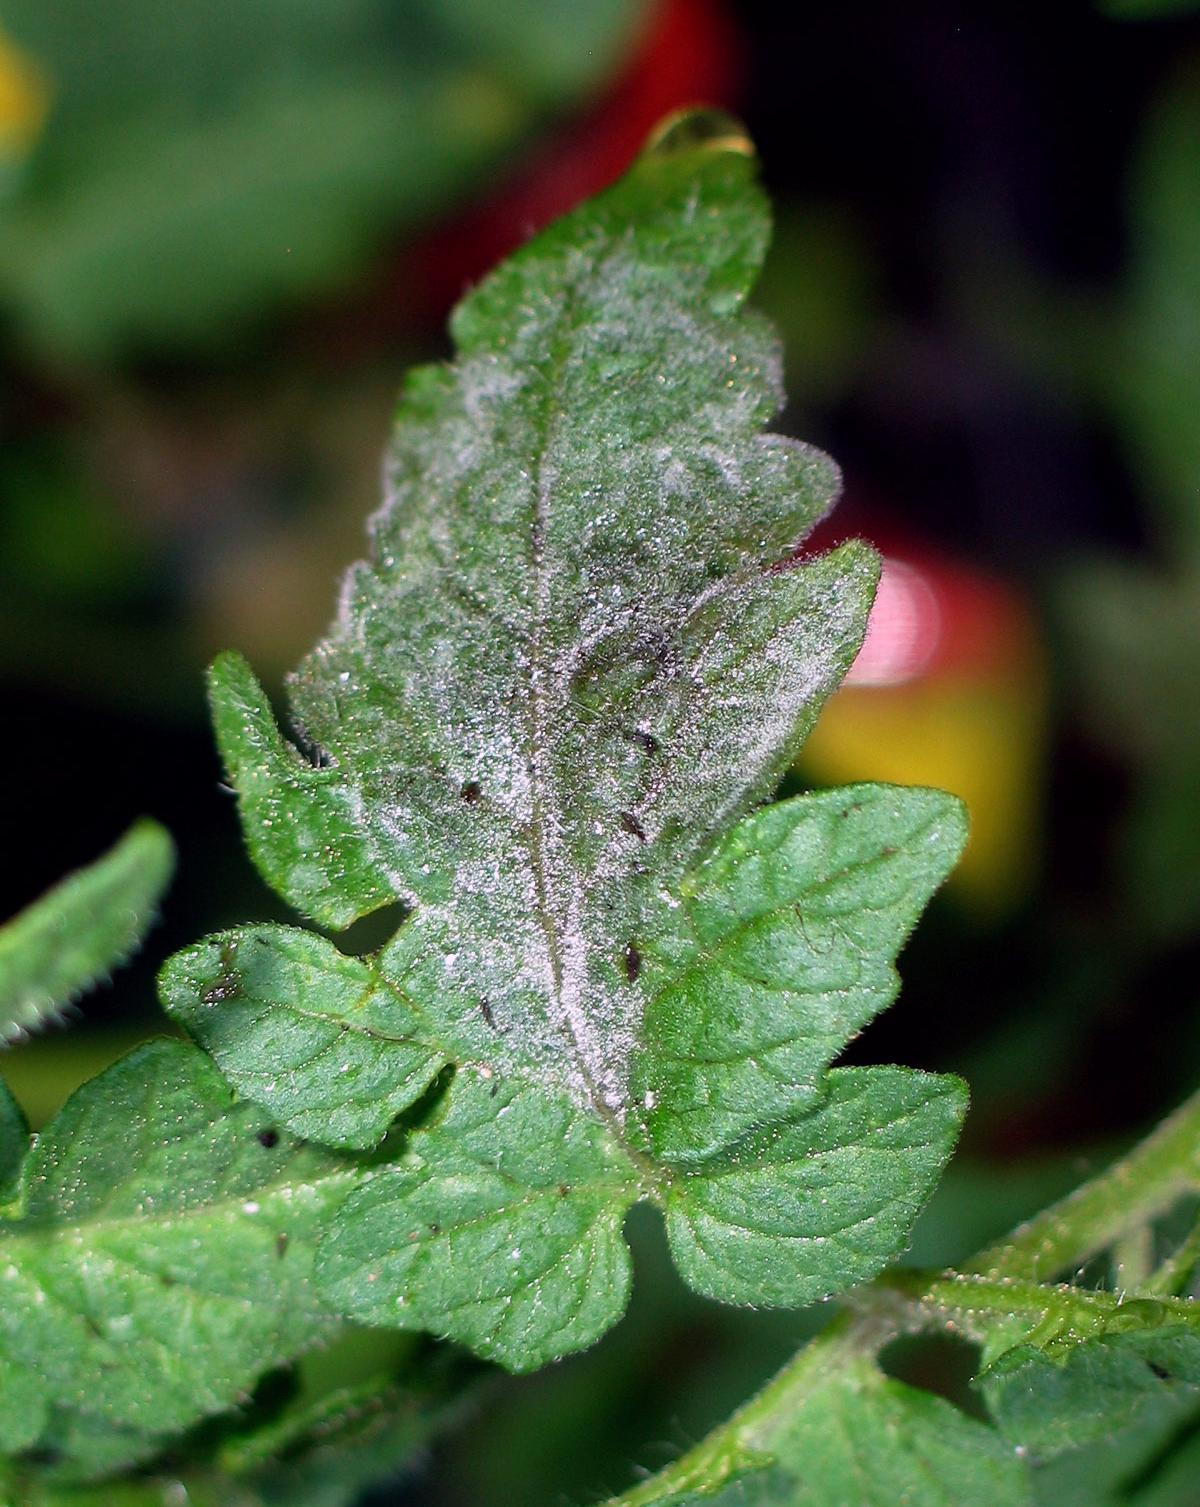Tomato leaf late blight: (165, 92, 959, 1374)
